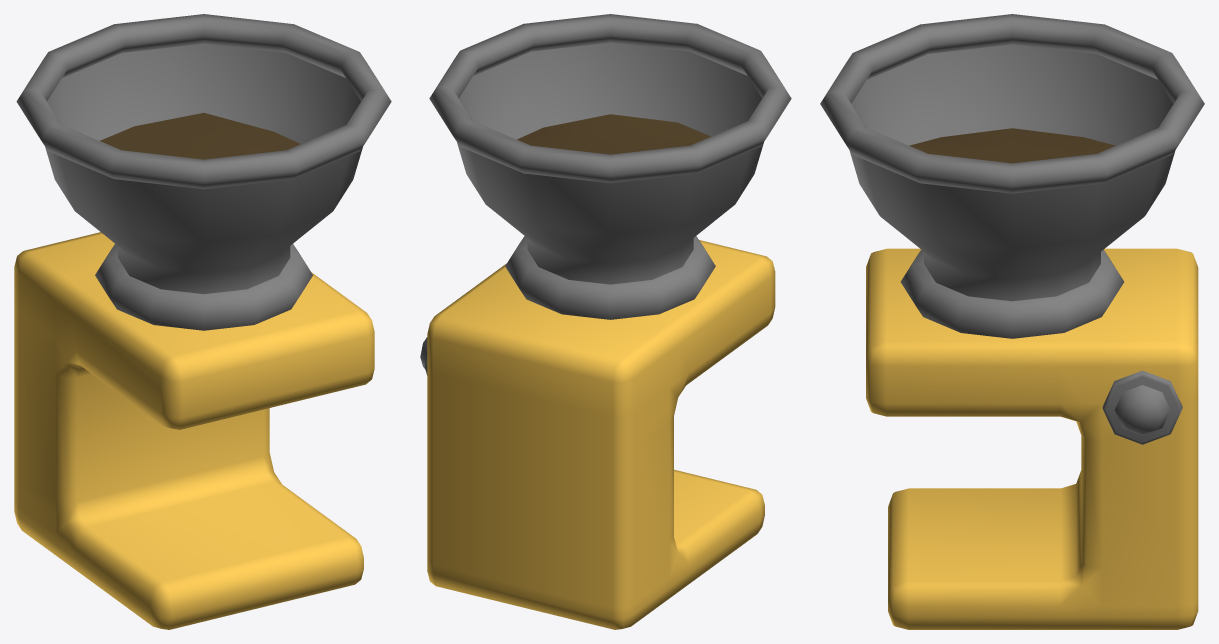
The model's file is Turret_02_B.fbx.
3 renders of one model, left to right at view 1: azimuth 30°, elevation 25°; view 2: azimuth 150°, elevation 25°; view 3: azimuth 270°, elevation 25°, orthographic. The views are drawn at different scales.
Visible parts, largest first — view 1: 002; view 2: 002; view 3: 002.
Boxes of the visible parts, bbox=[...] form: 002: bbox=[14, 14, 391, 629]; 002: bbox=[420, 14, 791, 629]; 002: bbox=[820, 14, 1204, 629].
Bounding box in the file's own units: 39.52 × 55.7 × 39.52.
2 materials, 1 textured.
